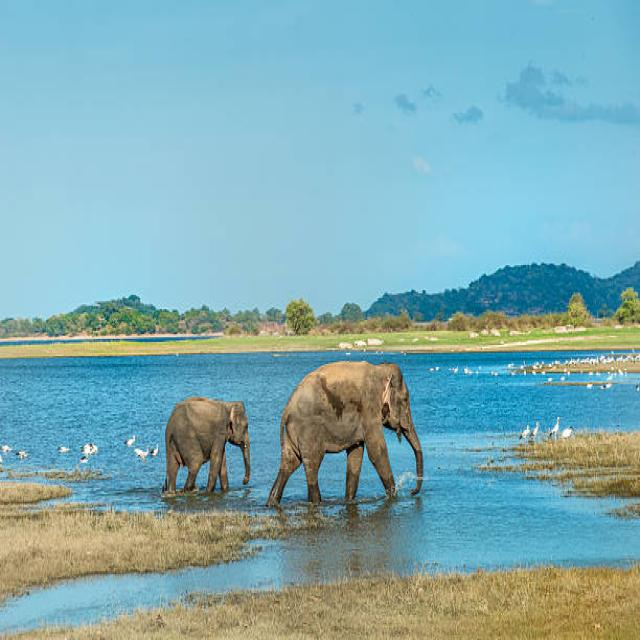Elephant: (272, 360, 428, 527), (160, 389, 257, 501)
